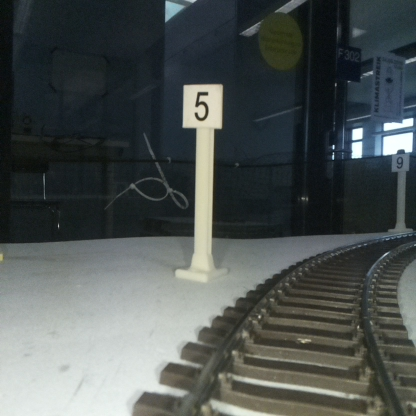white-info-5: (183, 83, 222, 275)
white-info-9: (391, 152, 409, 231)
